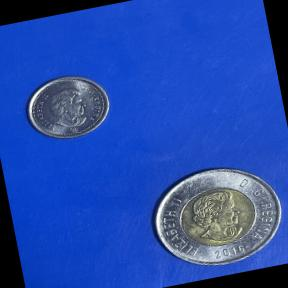coin: (136, 151, 288, 285), (17, 64, 120, 153)
